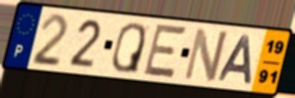2: (31, 11, 70, 68), (69, 18, 104, 69)
A: (216, 34, 254, 86)
E: (141, 23, 189, 81)
N: (181, 26, 230, 84)
Q: (110, 21, 148, 75)
